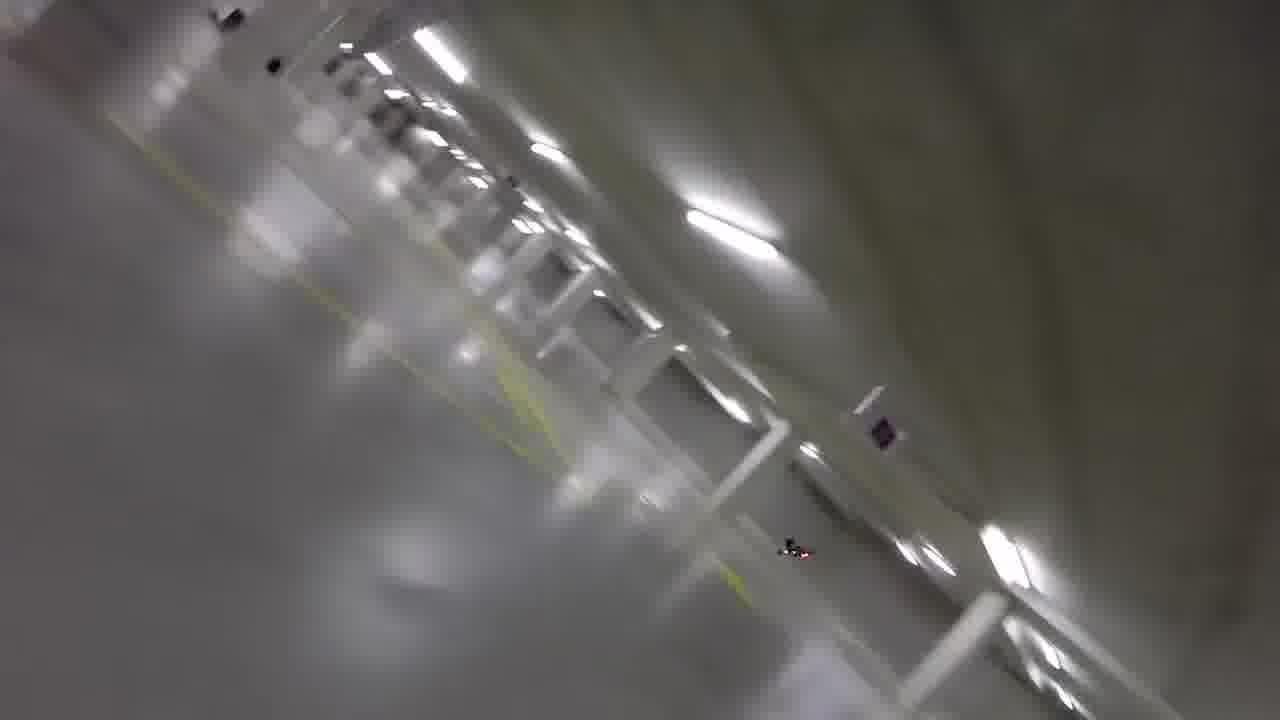drone: (777, 535, 813, 560)
